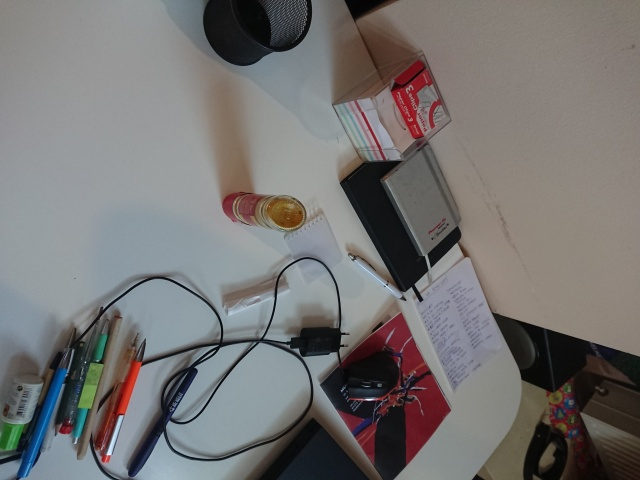Kotanyi Curry Spices Mix 70g: (219, 190, 309, 236)
